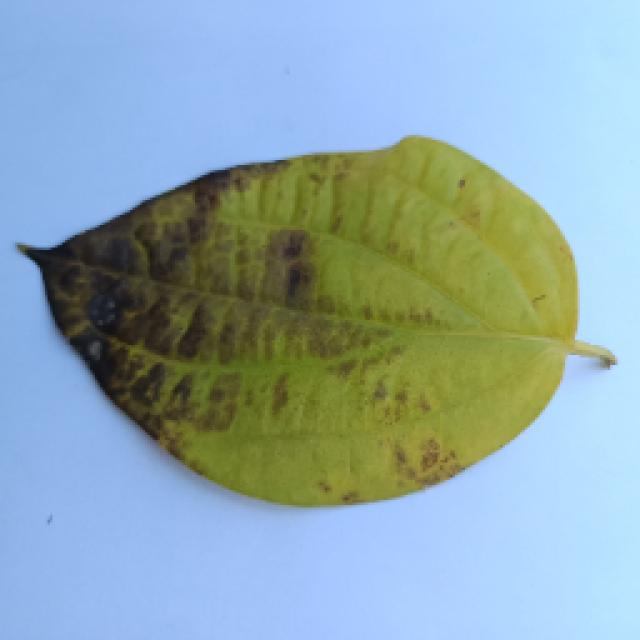slow-decline: (8, 132, 610, 512)
